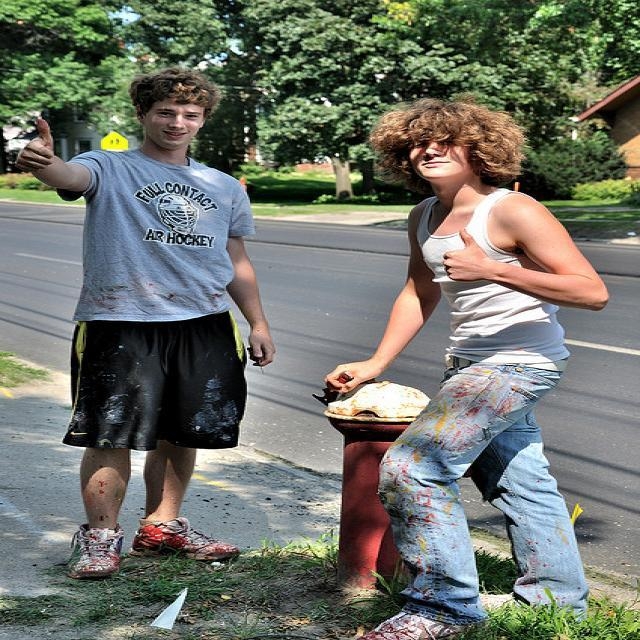fire_hydrant: (310, 370, 430, 609)
